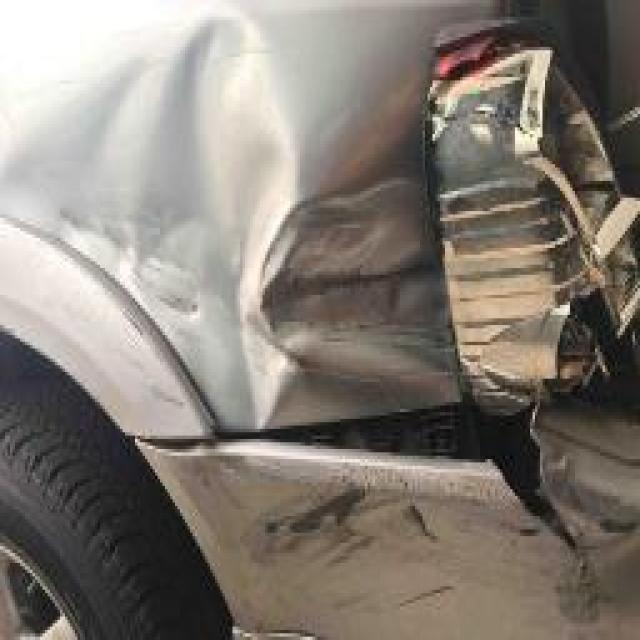Bumper: (190, 422, 638, 640)
Fender: (50, 17, 440, 415)
Light: (425, 47, 640, 375)
